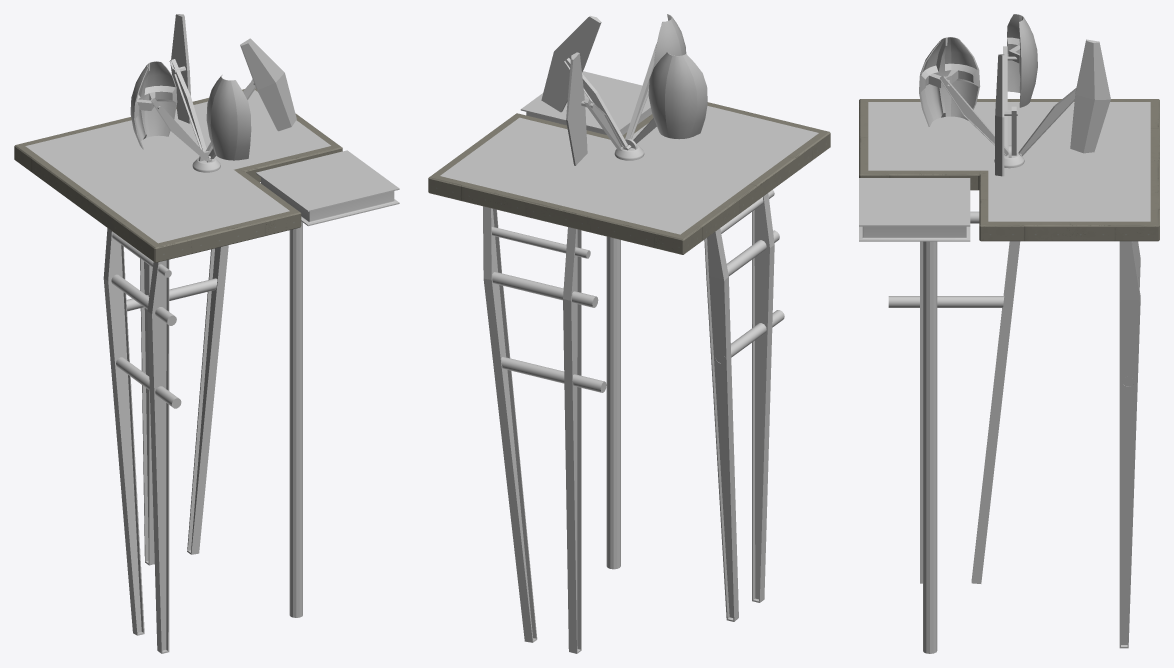
Rendered from PlatformHazard4Arm.fbx.
The picture shows the model from 3 angles, left to right: view 1: azimuth 30°, elevation 25°; view 2: azimuth 150°, elevation 25°; view 3: azimuth 270°, elevation 25°; orthographic projection. The views are drawn at different scales.
Parts seen in each view (by area): view 1: PlatformHazard4Arm_Floor, Canopy01 (×2), Sail01 (×2), Arm03, Arm01; view 2: PlatformHazard4Arm_Floor, Canopy01 (×2), Sail01 (×2), Arm04, Arm02; view 3: PlatformHazard4Arm_Floor, Canopy01 (×2), Sail01 (×2), Arm04, Arm03.
Part boxes in pixels (x1,y1,x2,y2): PlatformHazard4Arm_Floor: [14, 88, 399, 653]; Canopy01 (×2): [130, 61, 251, 160]; Sail01 (×2): [170, 14, 296, 131]; Arm03: [169, 59, 206, 151]; Arm01: [151, 98, 209, 161]; PlatformHazard4Arm_Floor: [428, 71, 830, 653]; Canopy01 (×2): [648, 14, 707, 139]; Sail01 (×2): [541, 15, 601, 165]; Arm04: [625, 43, 656, 139]; Arm02: [564, 58, 627, 147]; PlatformHazard4Arm_Floor: [859, 99, 1159, 653]; Canopy01 (×2): [919, 14, 1037, 126]; Sail01 (×2): [995, 39, 1110, 176]; Arm04: [940, 75, 1008, 155]; Arm03: [1018, 88, 1076, 156].
Size of the model in its own units: 500 by 1086 by 500.
